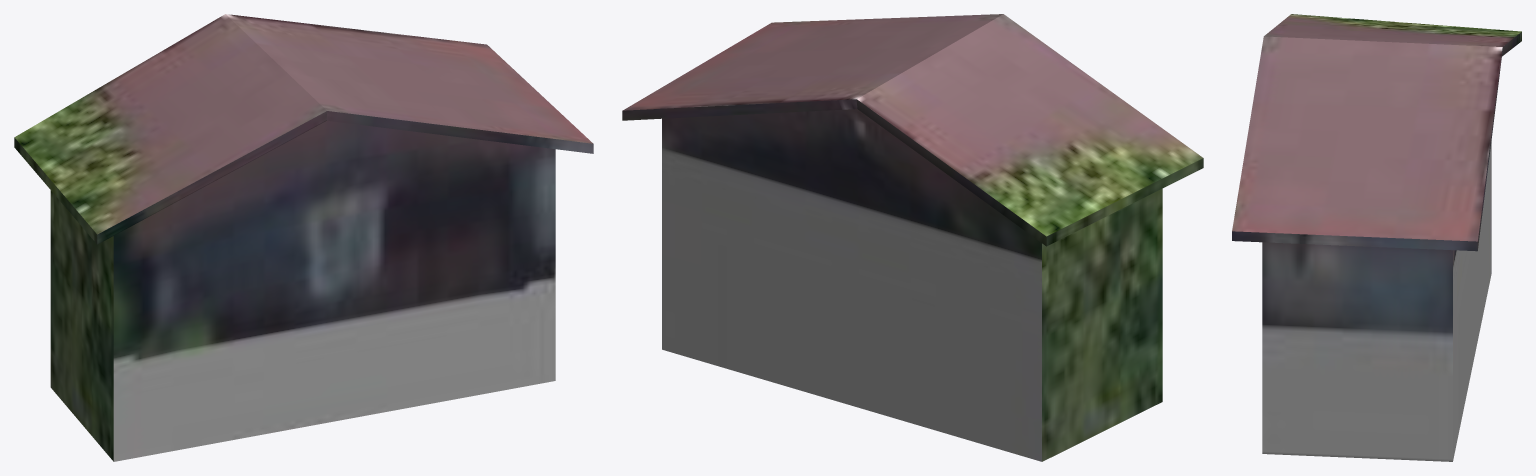
3 views of the same model, side by side, from view 1: azimuth 30°, elevation 25°; view 2: azimuth 150°, elevation 25°; view 3: azimuth 270°, elevation 25° (orthographic). The views are drawn at different scales.
Visible parts, largest first — view 1: B287154046601062A0; view 2: B287154046601062A0; view 3: B287154046601062A0.
Part boxes in pixels (<box>): B287154046601062A0: <box>14,14,593,461</box>; B287154046601062A0: <box>622,14,1203,461</box>; B287154046601062A0: <box>1232,14,1521,461</box>.
Bounding box in the file's own units: 6.09 × 3.89 × 3.28.
Materials: 1 (1 with a texture image).
